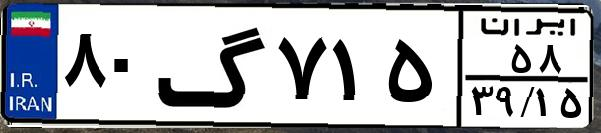0: (110, 28, 156, 98)
1: (330, 28, 385, 110), (535, 70, 560, 125)
3: (470, 70, 495, 125)
5: (385, 28, 445, 110), (560, 70, 590, 125), (508, 27, 537, 80)
7: (270, 28, 330, 110)
8: (57, 26, 110, 100), (537, 27, 568, 80)
9: (495, 70, 520, 125)
گ: (156, 12, 270, 120)
